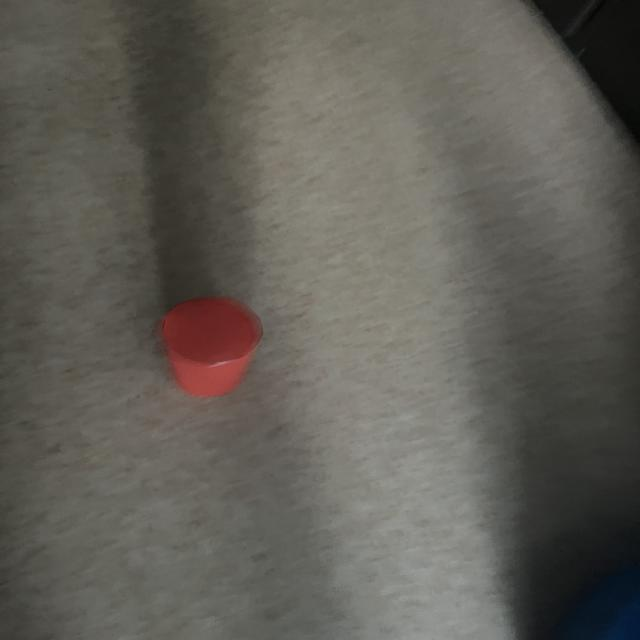przeszkoda: (161, 297, 262, 397)
